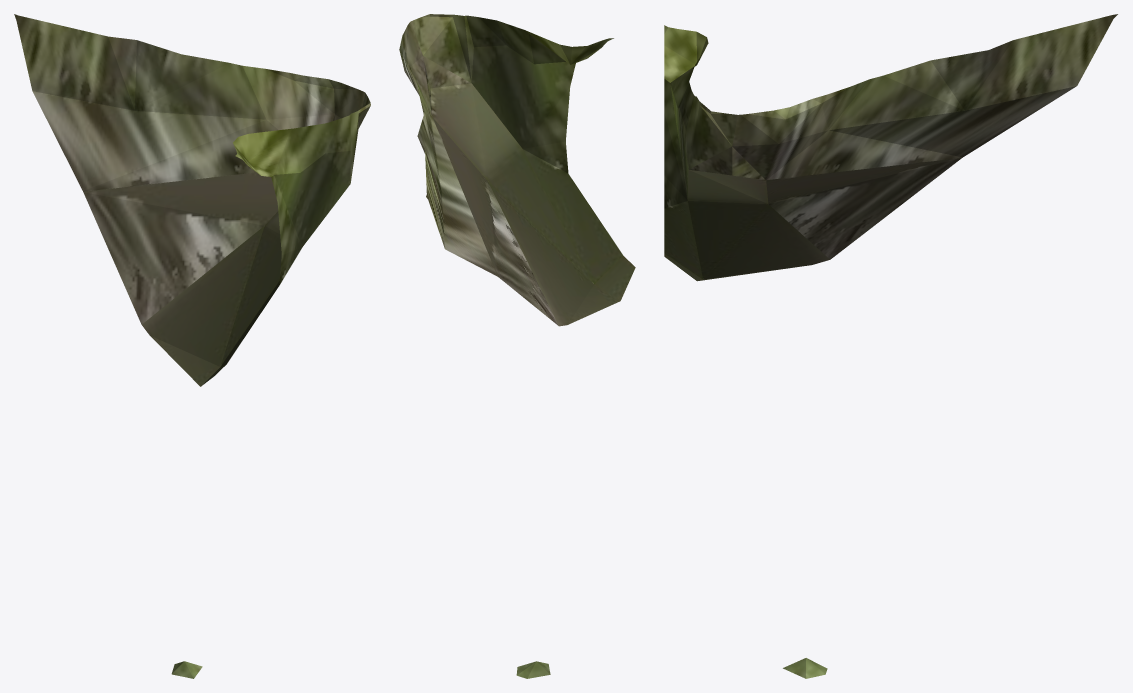
3 renders of one model, left to right at view 1: azimuth 30°, elevation 25°; view 2: azimuth 150°, elevation 25°; view 3: azimuth 270°, elevation 25°, orthographic. The views are drawn at different scales.
Bounding box in the file's own units: 1 × 2.95 × 1.9.
1 material, 1 textured.
